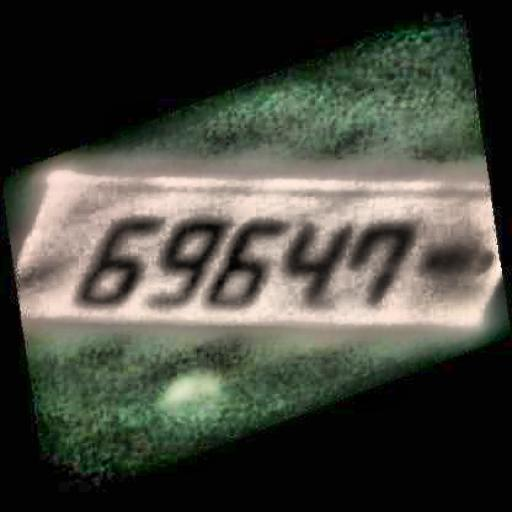SERIAL_REGION: (69, 212, 485, 331)
